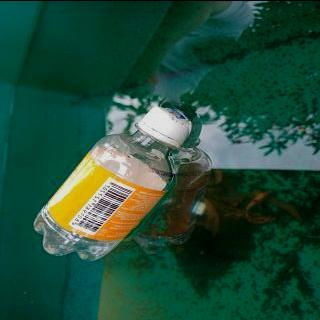bottle: (30, 104, 193, 263)
